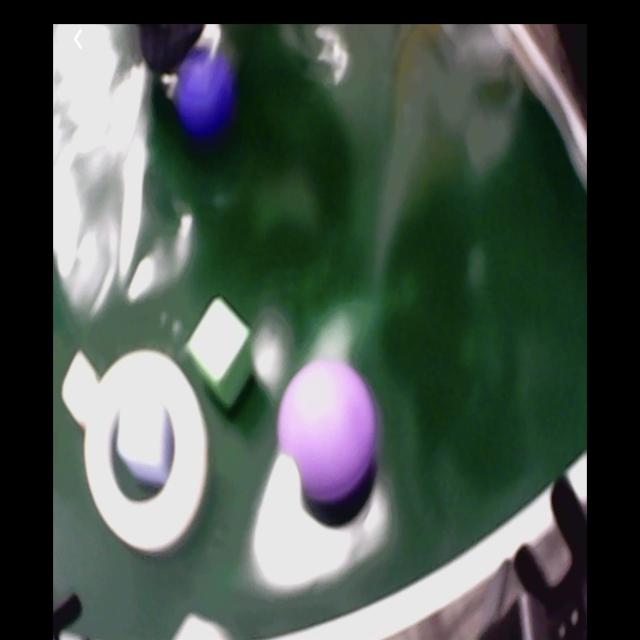ball: (279, 362, 376, 504), (177, 47, 233, 135)
